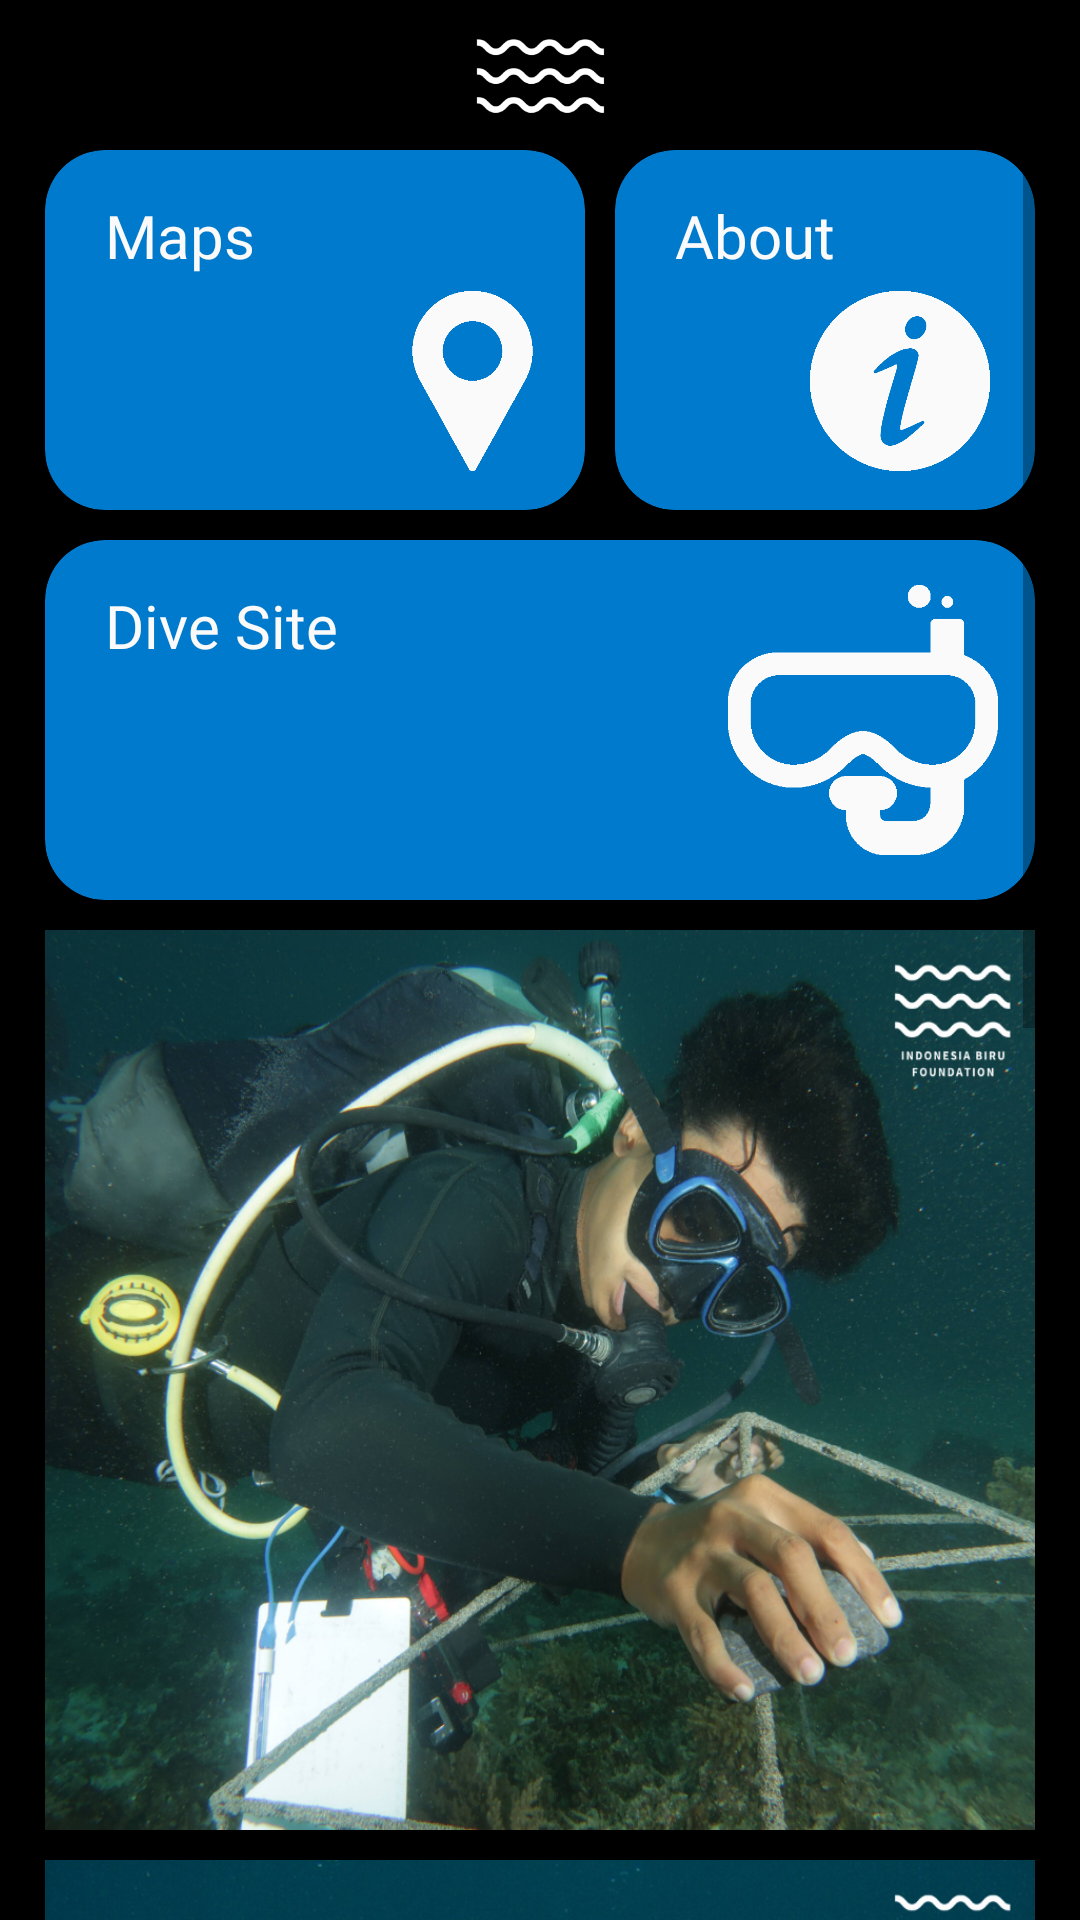

Named icons in this screenshot (1080 x 1920) and their bounding boxes, (x1, y1, x2, y2):
dive site: (728, 585, 998, 855)
